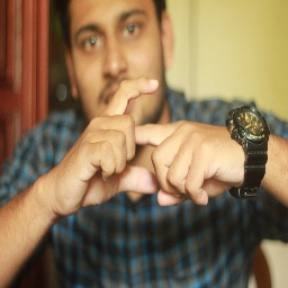E: (94, 71, 195, 207)
